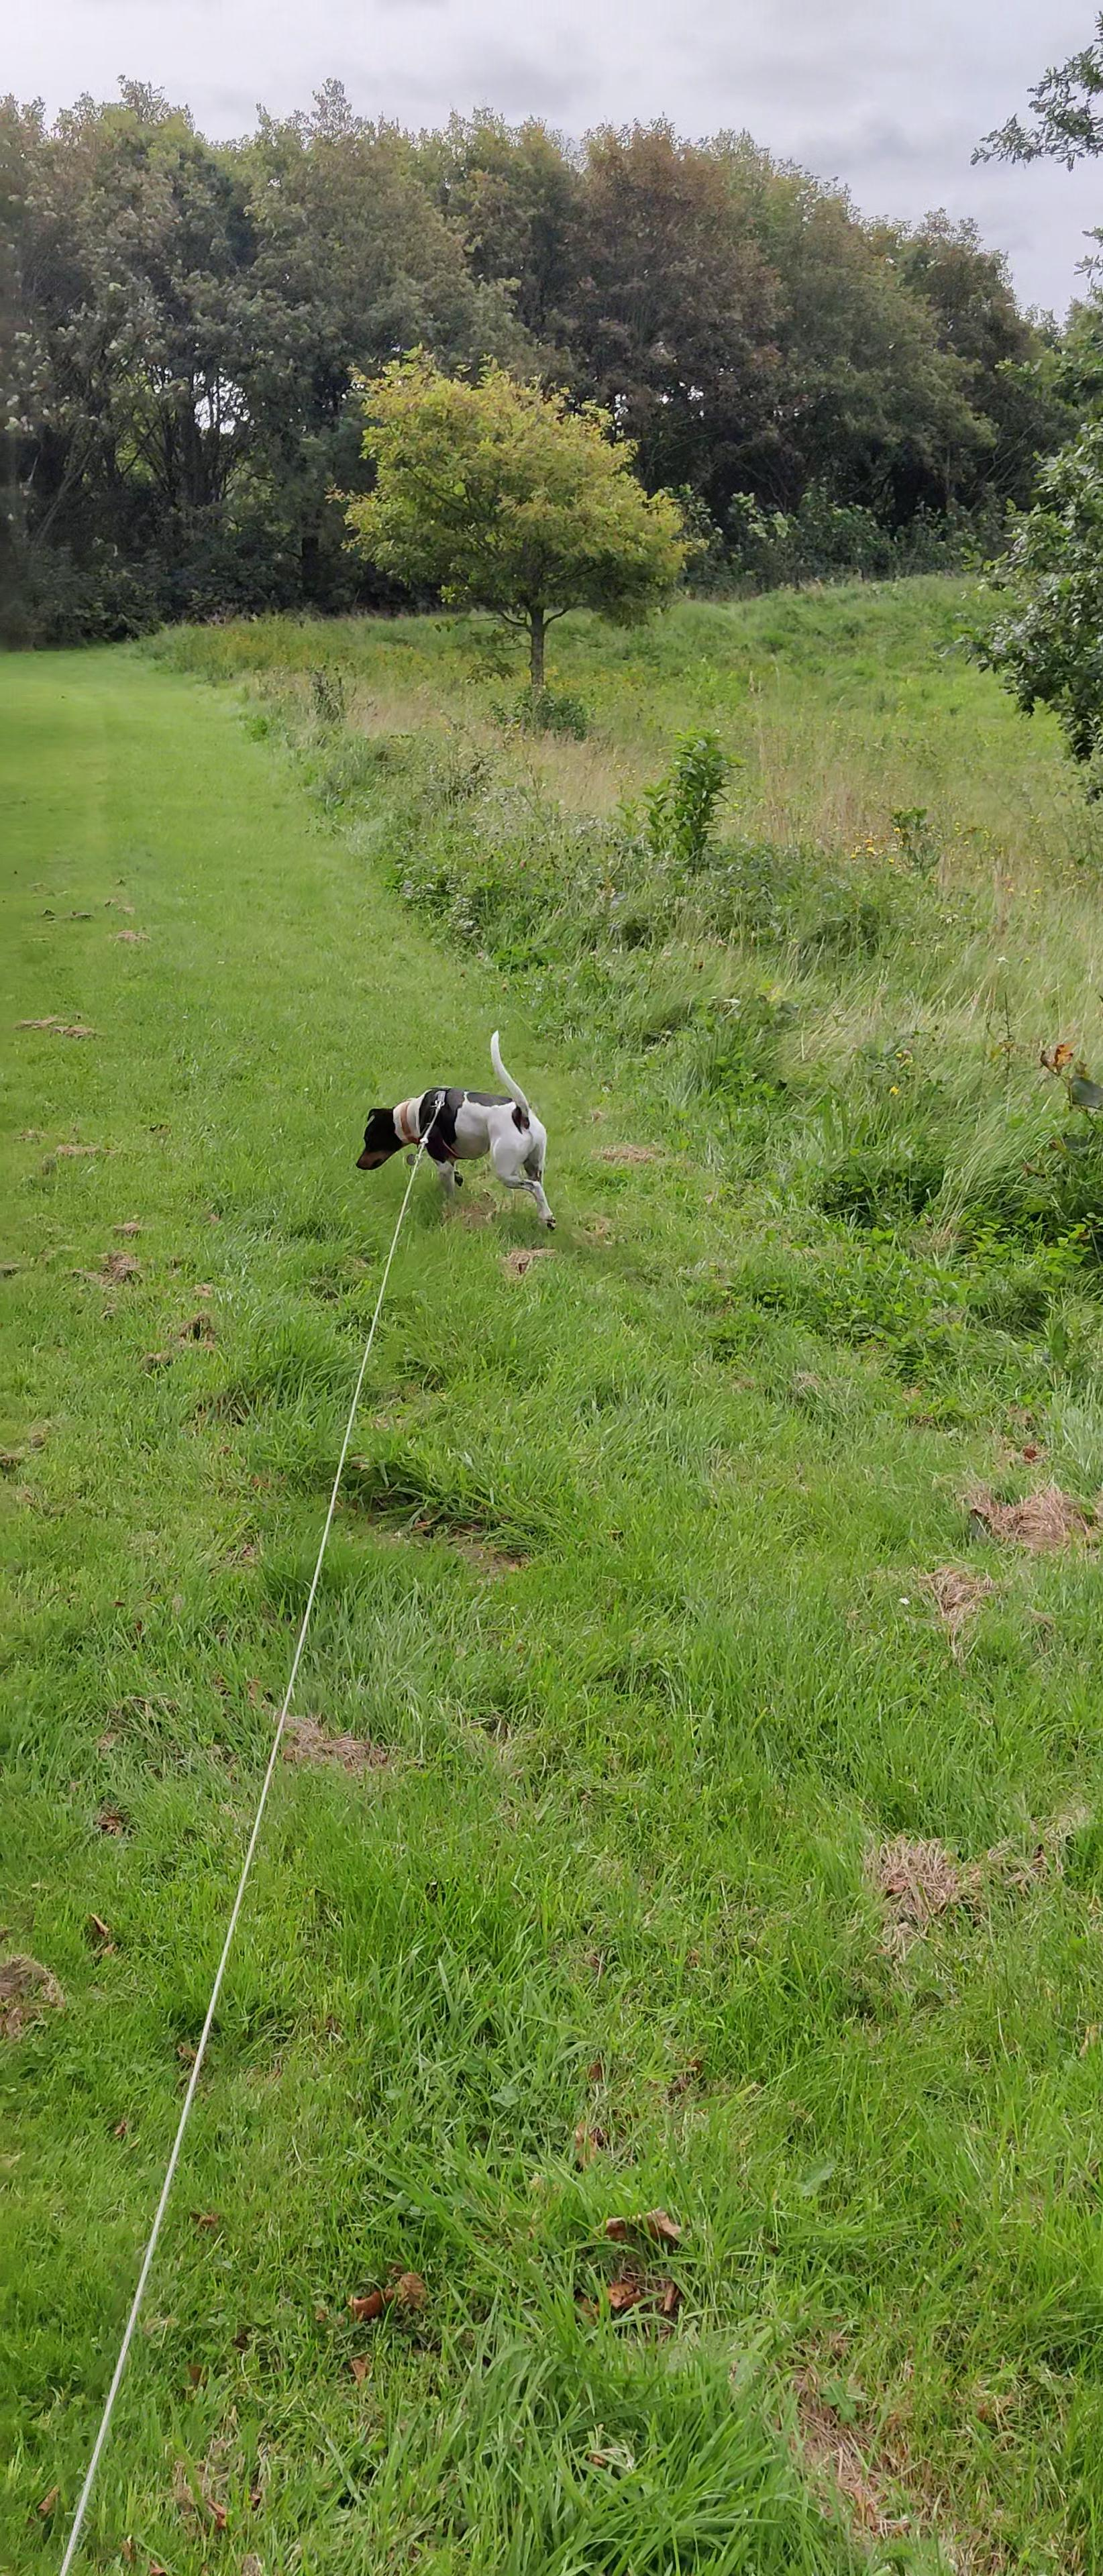Dog: (350, 1019, 561, 1232)
